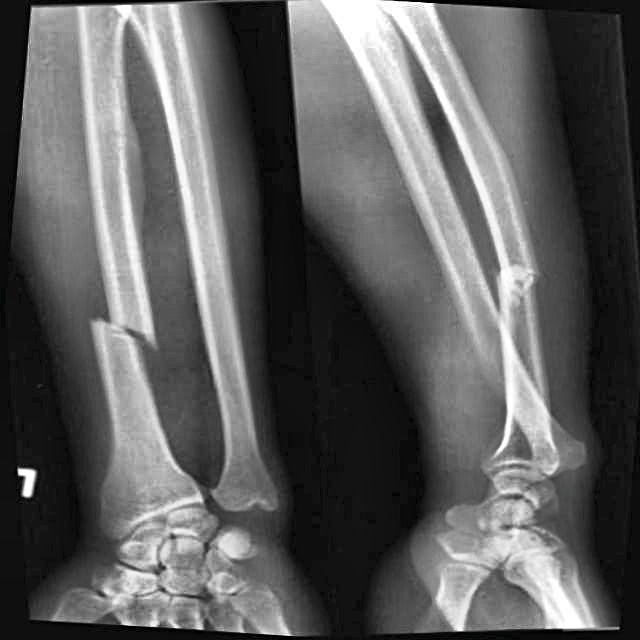Oblique Displaced: (74, 291, 181, 387)
Transverse Displaced: (476, 236, 560, 317)
